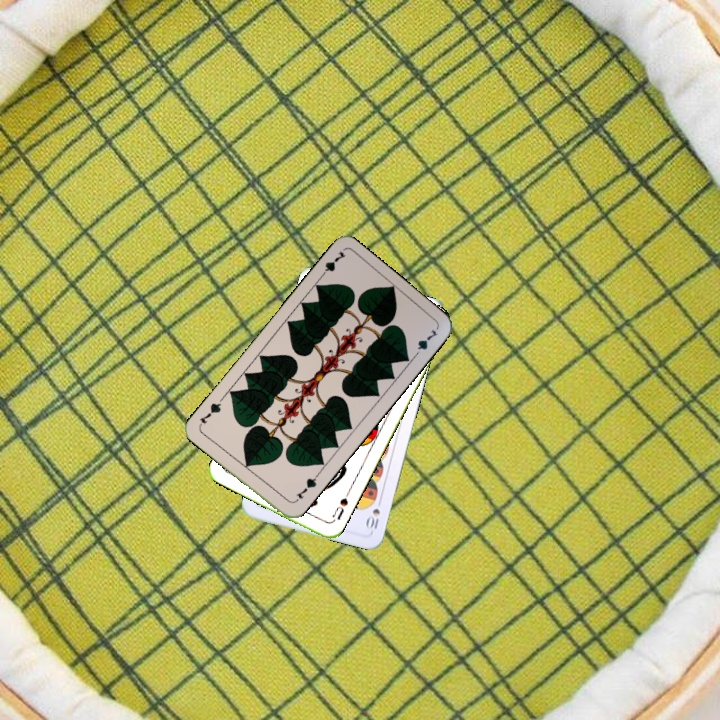G7: (315, 247, 348, 282), (290, 471, 320, 505)
S10: (363, 504, 383, 532)
SU: (327, 487, 352, 525)
